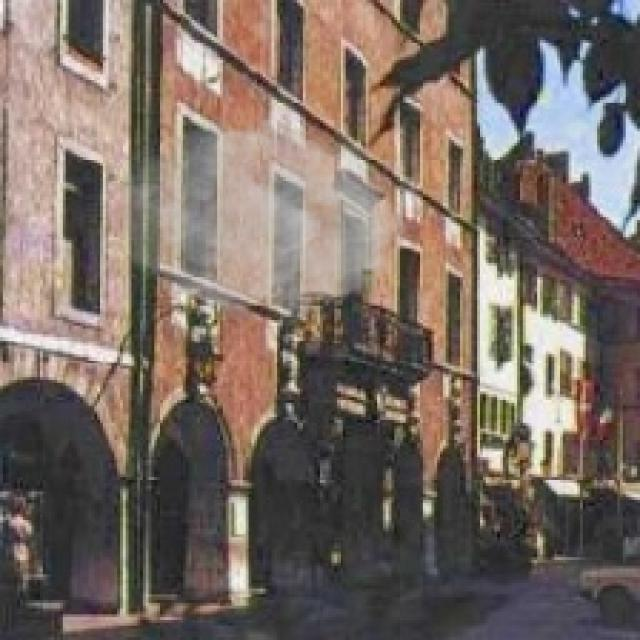Smoke: (123, 108, 403, 326)
